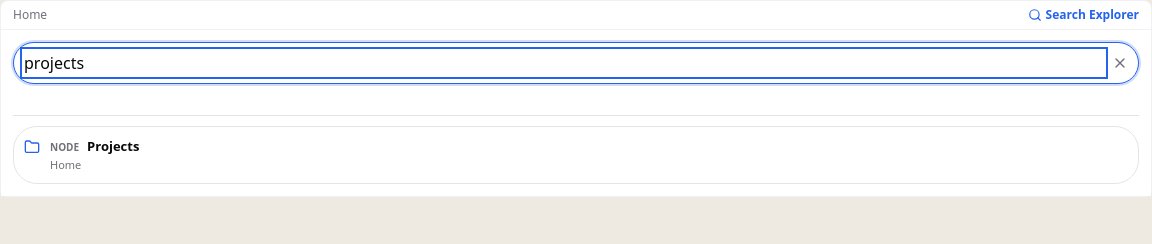
Test: HierarchyExplorer Task 151 dedicated search and reveal › revalidates a valid result, reconstructs its path, reveals it, and focuses its real row
Click the button "Node Projects Home" at (113, 146), box [13,126,1139,184]
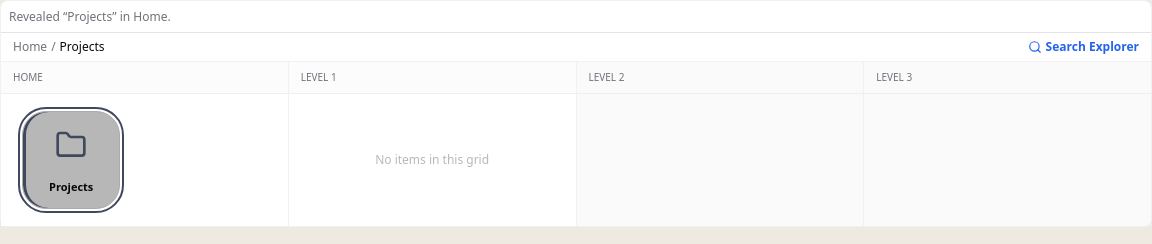
Check: the message reads "Revealed “Projects” in Home.", box [9,8,171,24]
